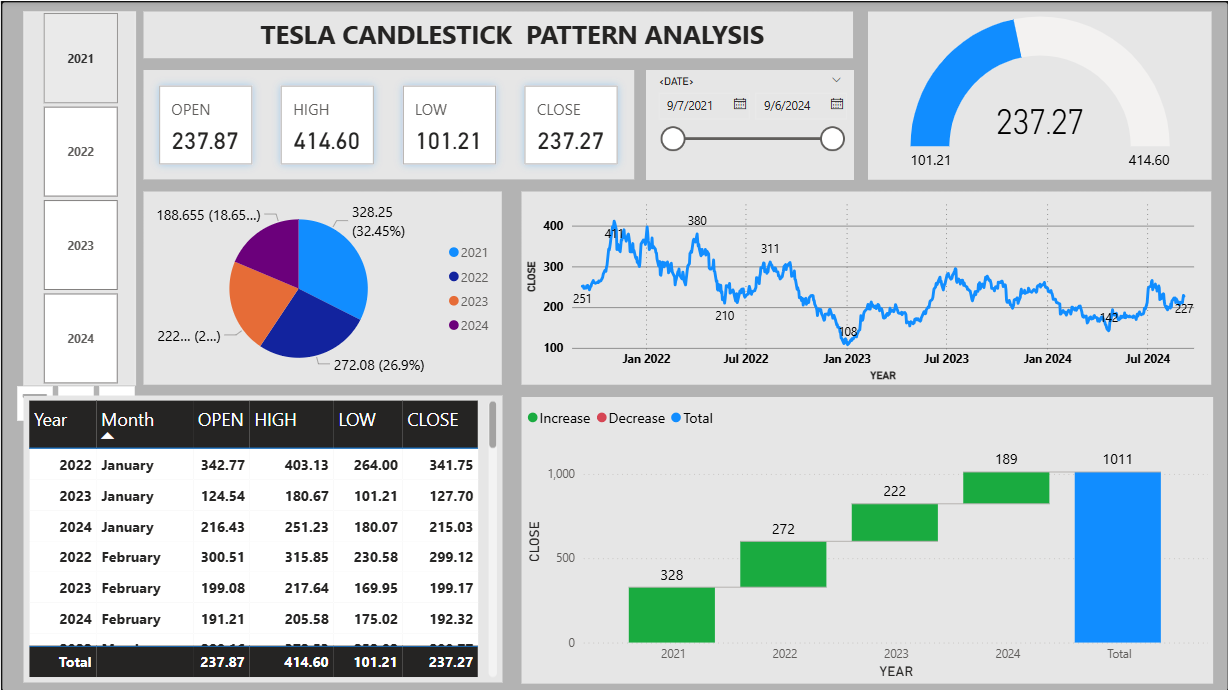

The page's visual inventory and layout, read from the dashboard file:
{"tool":"powerbi","page":{"name":"Page 1","canvas":[1280,720],"ordinal":0},"visuals":[{"type":"lineChart","fields":{"Category":["TSLA_Daily_202109070000_2024090.<DATE>.Variation.Date Hierarchy.Year","TSLA_Daily_202109070000_2024090.<DATE>.Variation.Date Hierarchy.Quarter","TSLA_Daily_202109070000_2024090.<DATE>.Variation.Date Hierarchy.Month","TSLA_Daily_202109070000_2024090.<DATE>.Variation.Date Hierarchy.Day"],"Y":["Median(TSLA_Daily_202109070000_2024090.<CLOSE>)"]},"box":[542.4,198.5,719,201.6],"z":0},{"type":"slicer","fields":{"Values":["TSLA_Daily_202109070000_2024090.<DATE>"]},"box":[672.1,71.9,215.7,114.1],"z":1000},{"type":"gauge","fields":{"MaxValue":["Max(TSLA_Daily_202109070000_2024090.<HIGH>)"],"MinValue":["Min(TSLA_Daily_202109070000_2024090.<LOW>)"],"Y":["Median(TSLA_Daily_202109070000_2024090.<CLOSE>)"]},"box":[903.4,10.9,357.9,175.1],"z":2000},{"type":"slicer","fields":{"Values":["TSLA_Daily_202109070000_2024090.<DATE>.Variation.Date Hierarchy.Year"]},"box":[23.4,10.9,117.2,389.2],"z":3000},{"type":"tableEx","fields":{"Values":["TSLA_Daily_202109070000_2024090.<DATE>.Variation.Date Hierarchy.Year","TSLA_Daily_202109070000_2024090.<DATE>.Variation.Date Hierarchy.Month","Median(TSLA_Daily_202109070000_2024090.<OPEN>)","Max(TSLA_Daily_202109070000_2024090.<HIGH>)","Min(TSLA_Daily_202109070000_2024090.<LOW>)","Median(TSLA_Daily_202109070000_2024090.<CLOSE>)"]},"box":[23.4,411.1,498.6,298.5],"z":4000},{"type":"pieChart","fields":{"Category":["TSLA_Daily_202109070000_2024090.<DATE>.Variation.Date Hierarchy.Year","TSLA_Daily_202109070000_2024090.<DATE>.Variation.Date Hierarchy.Quarter","TSLA_Daily_202109070000_2024090.<DATE>.Variation.Date Hierarchy.Month","TSLA_Daily_202109070000_2024090.<DATE>.Variation.Date Hierarchy.Day"],"Y":["Median(TSLA_Daily_202109070000_2024090.<CLOSE>)"]},"box":[148.5,198.5,373.6,201.6],"z":5000},{"type":"waterfallChart","fields":{"Category":["TSLA_Daily_202109070000_2024090.<DATE>.Variation.Date Hierarchy.Year","TSLA_Daily_202109070000_2024090.<DATE>.Variation.Date Hierarchy.Quarter","TSLA_Daily_202109070000_2024090.<DATE>.Variation.Date Hierarchy.Month","TSLA_Daily_202109070000_2024090.<DATE>.Variation.Date Hierarchy.Day"],"Y":["Median(TSLA_Daily_202109070000_2024090.<CLOSE>)"]},"box":[542.4,412.6,720.5,298.5],"z":6000},{"type":"cardVisual","fields":{"Data":["Median(TSLA_Daily_202109070000_2024090.<OPEN>)","Max(TSLA_Daily_202109070000_2024090.<HIGH>)","Min(TSLA_Daily_202109070000_2024090.<LOW>)","Median(TSLA_Daily_202109070000_2024090.<CLOSE>)"]},"box":[148.5,71.9,511.1,114.1],"z":7000},{"type":"textbox","box":[148.5,10.9,739.3,48.5],"z":7001}]}

Visuals, with their boxes in screenshot pixels (x1, y1, x2, y2), scaled from the page's 1280x720 canvas onto the 1228x690 screenshot:
lineChart - TSLA_Daily_202109070000_2024090.<DATE>.Variation.Date Hierarchy.Year x TSLA_Daily_202109070000_2024090.<DATE>.Variation.Date Hierarchy.Quarter: x1=520 y1=190 x2=1210 y2=383
slicer - TSLA_Daily_202109070000_2024090.<DATE>: x1=645 y1=69 x2=852 y2=178
gauge - Max(TSLA_Daily_202109070000_2024090.<HIGH>) x Min(TSLA_Daily_202109070000_2024090.<LOW>): x1=867 y1=10 x2=1210 y2=178
slicer - TSLA_Daily_202109070000_2024090.<DATE>.Variation.Date Hierarchy.Year: x1=22 y1=10 x2=135 y2=383
tableEx - TSLA_Daily_202109070000_2024090.<DATE>.Variation.Date Hierarchy.Year x TSLA_Daily_202109070000_2024090.<DATE>.Variation.Date Hierarchy.Month: x1=22 y1=394 x2=501 y2=680
pieChart - TSLA_Daily_202109070000_2024090.<DATE>.Variation.Date Hierarchy.Year x TSLA_Daily_202109070000_2024090.<DATE>.Variation.Date Hierarchy.Quarter: x1=142 y1=190 x2=501 y2=383
waterfallChart - TSLA_Daily_202109070000_2024090.<DATE>.Variation.Date Hierarchy.Year x TSLA_Daily_202109070000_2024090.<DATE>.Variation.Date Hierarchy.Quarter: x1=520 y1=395 x2=1212 y2=681
cardVisual - Median(TSLA_Daily_202109070000_2024090.<OPEN>) x Max(TSLA_Daily_202109070000_2024090.<HIGH>): x1=142 y1=69 x2=633 y2=178
textbox: x1=142 y1=10 x2=852 y2=57
